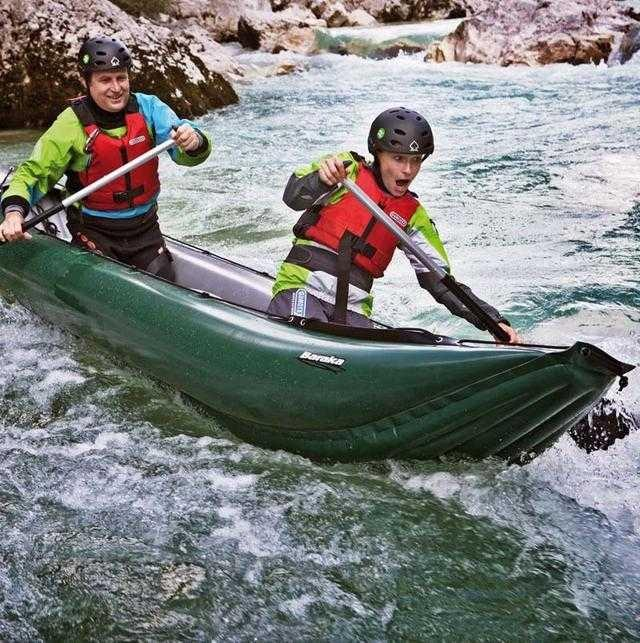kayak: (1, 217, 617, 468)
